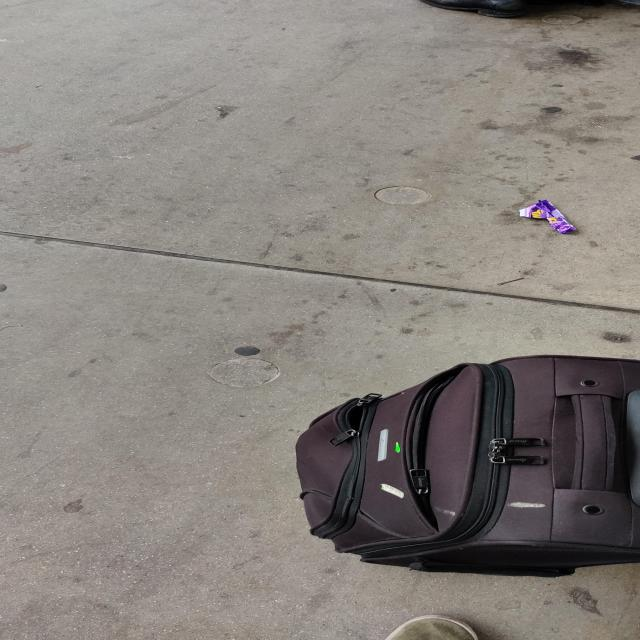litter: (515, 196, 579, 240)
